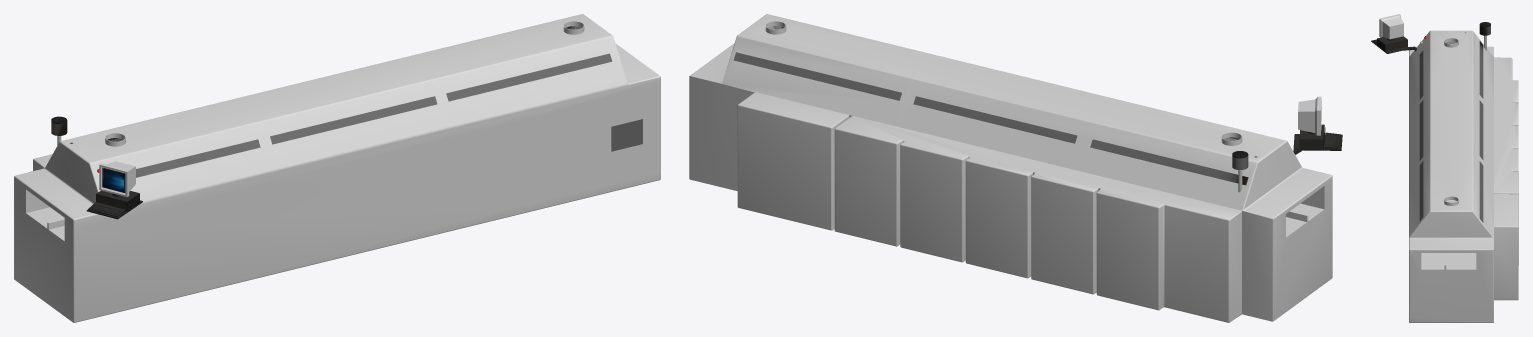
The model's file is ReflowOvenBTUHQ.fbx.
3 renders of one model, left to right at view 1: azimuth 30°, elevation 25°; view 2: azimuth 150°, elevation 25°; view 3: azimuth 270°, elevation 25°, orthographic. The views are drawn at different scales.
Visible parts, largest first — view 1: reflow oven; view 2: reflow oven; view 3: reflow oven.
Boxes of the visible parts, box(x1,y1,x2,y2) form: reflow oven: box(14, 14, 660, 322); reflow oven: box(689, 14, 1342, 322); reflow oven: box(1371, 14, 1518, 322).
Bounding box in the file's own units: 6.5 × 1.68 × 2.
9 materials, 8 textured.
